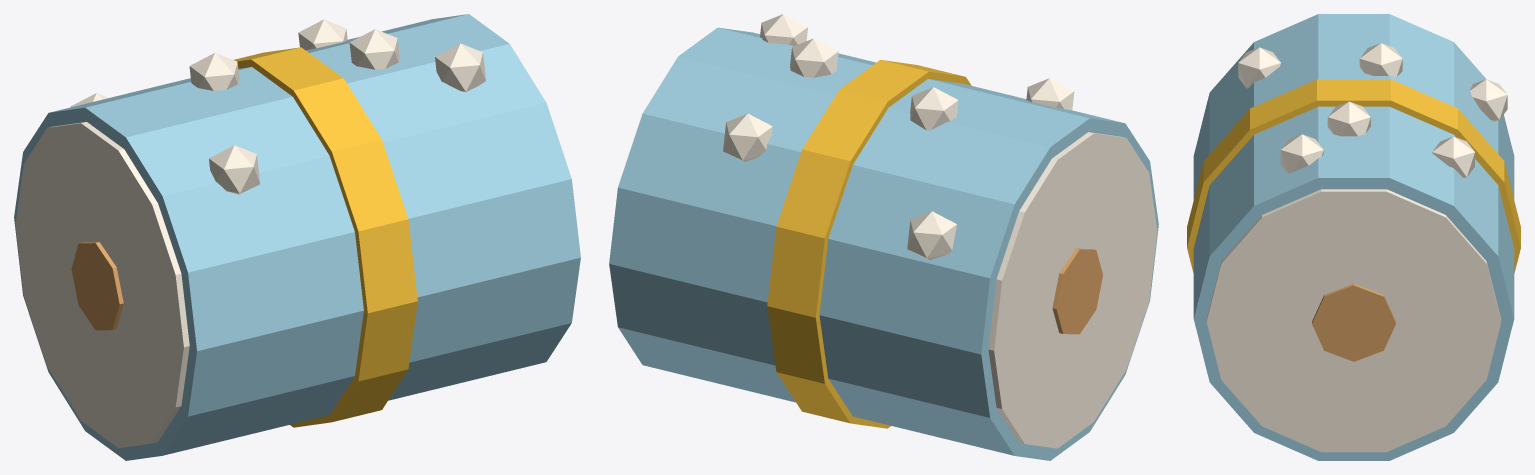
The model's file is sm_env_depot_supply_padding.glb.
3 views of the same model, side by side, from view 1: azimuth 30°, elevation 25°; view 2: azimuth 150°, elevation 25°; view 3: azimuth 270°, elevation 25° (orthographic). The views are drawn at different scales.
Visible parts, largest first — view 1: Roll, RollEnd, Tape, RollCore, Bubble.004, Bubble.003, Bubble.005, Bubble.001, Bubble.002; view 2: Roll, RollEnd, Tape, RollCore, Bubble, Bubble.002, Bubble.001, Bubble.005, Bubble.003, Bubble.004; view 3: RollEnd.001, Roll, Tape, RollCore.001, Bubble.005, Bubble.003, Bubble.001, Bubble.004, Bubble.002, Bubble.
Boxes of the visible parts, left/top/right/bottom form: Roll: left=14, top=14, right=580, bottom=460; RollEnd: left=15, top=122, right=189, bottom=448; Tape: left=234, top=47, right=417, bottom=427; RollCore: left=71, top=242, right=123, bottom=330; Bubble.004: left=209, top=145, right=260, bottom=194; Bubble.003: left=435, top=43, right=485, bottom=92; Bubble.005: left=349, top=29, right=399, bottom=69; Bubble.001: left=189, top=52, right=239, bottom=90; Bubble.002: left=298, top=19, right=347, bottom=50; Roll: left=609, top=27, right=1158, bottom=460; RollEnd: left=988, top=132, right=1157, bottom=448; Tape: left=767, top=60, right=971, bottom=428; RollCore: left=1052, top=248, right=1102, bottom=334; Bubble: left=907, top=211, right=956, bottom=260; Bubble.002: left=723, top=113, right=772, bottom=161; Bubble.001: left=910, top=87, right=958, bottom=130; Bubble.005: left=790, top=38, right=838, bottom=77; Bubble.003: left=760, top=14, right=807, bottom=45; Bubble.004: left=1026, top=78, right=1074, bottom=110; RollEnd.001: left=1206, top=189, right=1501, bottom=452; Roll: left=1193, top=14, right=1514, bottom=460; Tape: left=1187, top=79, right=1520, bottom=273; RollCore.001: left=1312, top=284, right=1395, bottom=361; Bubble.005: left=1327, top=101, right=1370, bottom=136; Bubble.003: left=1280, top=134, right=1323, bottom=173; Bubble.001: left=1359, top=43, right=1402, bottom=76; Bubble.004: left=1238, top=47, right=1281, bottom=88; Bubble.002: left=1432, top=136, right=1474, bottom=177; Bubble: left=1470, top=79, right=1507, bottom=121.
Bounding box in the file's own units: 0.484 × 0.413 × 0.396.
